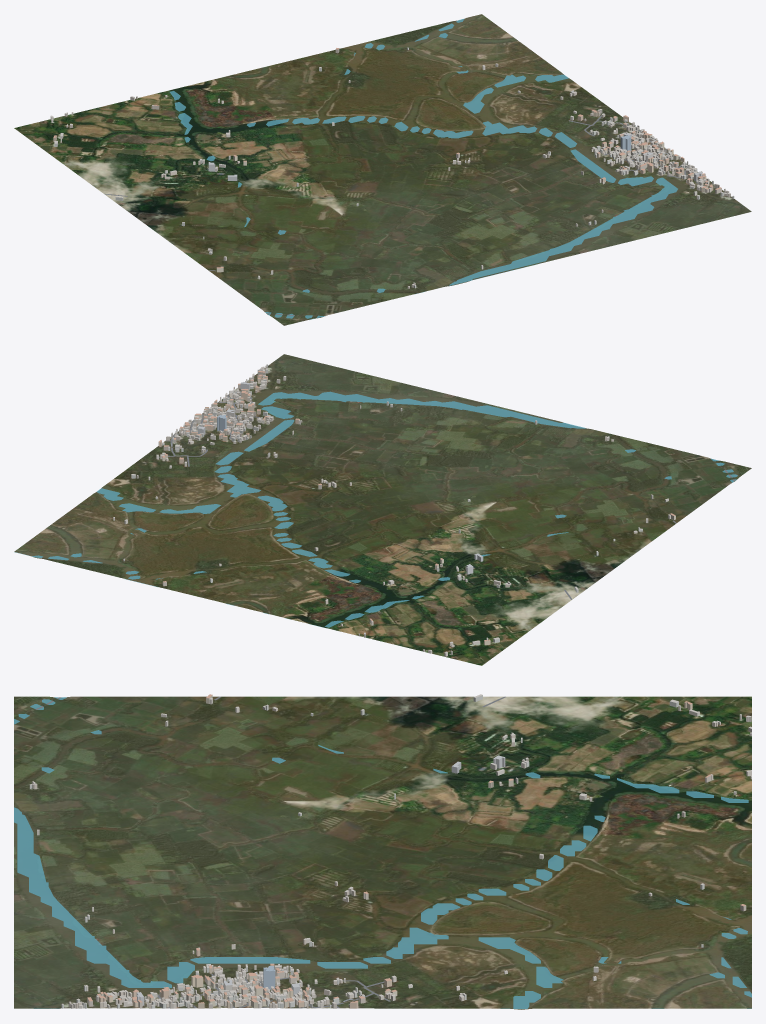
The picture shows the model from 3 angles, top to bottom: view 1: azimuth 30°, elevation 25°; view 2: azimuth 150°, elevation 25°; view 3: azimuth 270°, elevation 25°; orthographic projection. The views are drawn at different scales.
Parts seen in each view (by area): view 1: TERRAIN, WATER, BLDG_TUBE_HOUSE, BLDG_SHOPHOUSE; view 2: TERRAIN, WATER, BLDG_TUBE_HOUSE, BLDG_SHOPHOUSE; view 3: TERRAIN, WATER, BLDG_TUBE_HOUSE, BLDG_SHOPHOUSE.
Part boxes in pixels (x1=…): TERRAIN: x1=14, y1=14, x2=751, y2=325; WATER: x1=169, y1=18, x2=677, y2=319; BLDG_TUBE_HOUSE: x1=50, y1=47, x2=734, y2=288; BLDG_SHOPHOUSE: x1=53, y1=48, x2=721, y2=272; TERRAIN: x1=14, y1=354, x2=751, y2=665; WATER: x1=14, y1=391, x2=737, y2=628; BLDG_TUBE_HOUSE: x1=113, y1=364, x2=670, y2=656; BLDG_SHOPHOUSE: x1=158, y1=371, x2=675, y2=645; TERRAIN: x1=14, y1=696, x2=751, y2=1009; WATER: x1=14, y1=697, x2=751, y2=1008; BLDG_TUBE_HOUSE: x1=29, y1=694, x2=751, y2=1008; BLDG_SHOPHOUSE: x1=87, y1=694, x2=746, y2=1008.
Bounding box in the file's own units: 2000 × 59.55 × 2000.
7 materials, 1 textured.
